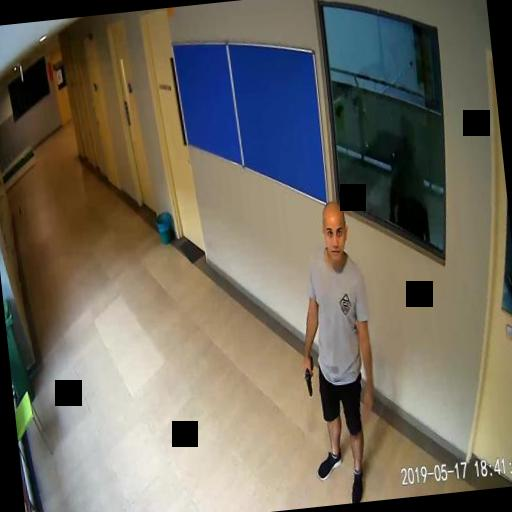Handgun: (302, 352, 316, 396)
